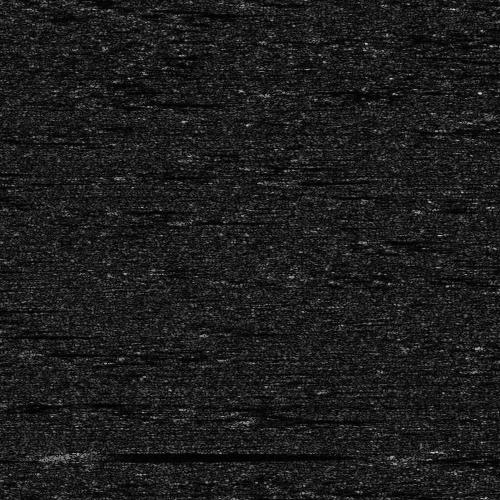rock: (17, 451, 110, 460), (227, 413, 258, 424), (363, 235, 394, 244), (266, 178, 307, 183), (11, 349, 52, 354), (162, 218, 193, 221), (0, 331, 9, 338)
shadow: (64, 451, 288, 460), (243, 413, 364, 424), (32, 349, 179, 354), (0, 331, 97, 338), (379, 235, 421, 244), (178, 218, 295, 221), (287, 178, 328, 183), (0, 266, 28, 269)
